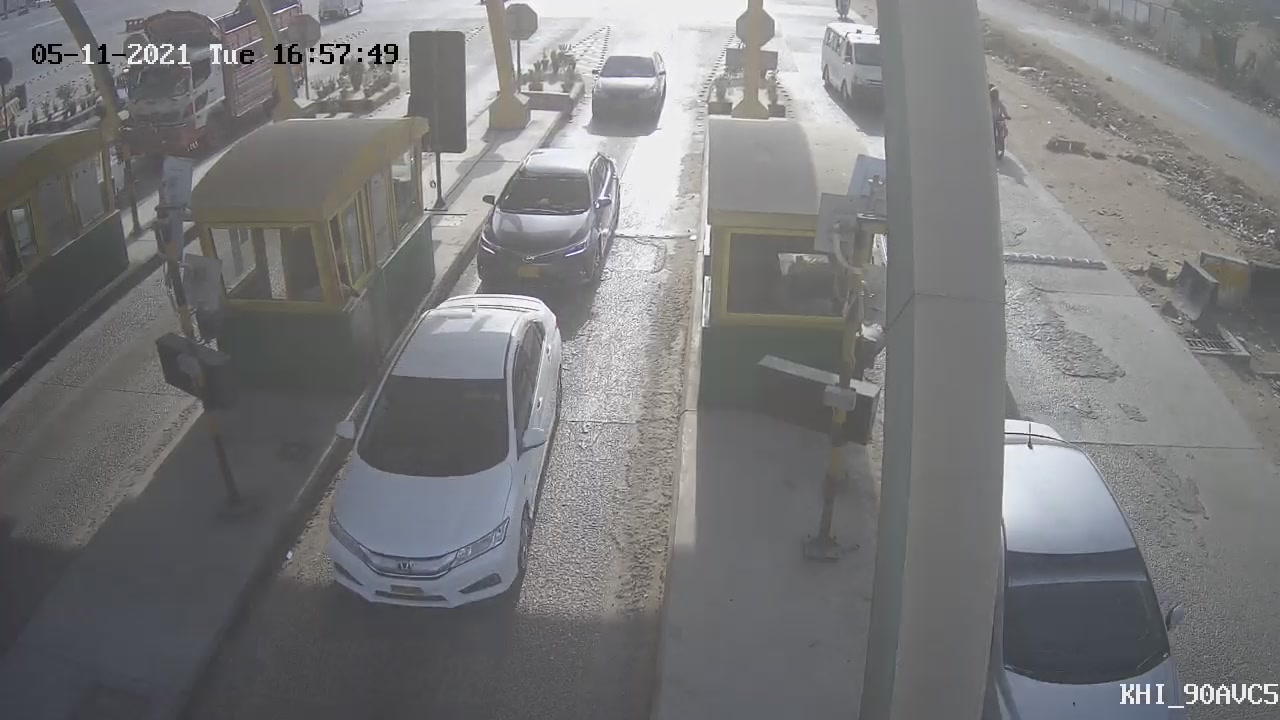F1: (300, 277, 586, 630), (457, 133, 643, 304), (576, 38, 681, 131)
